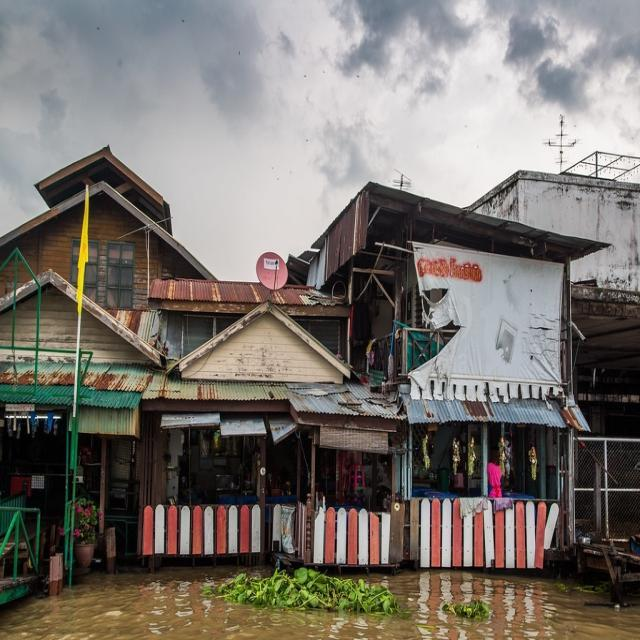Hyacinth: (219, 572, 399, 620), (438, 593, 494, 628)
